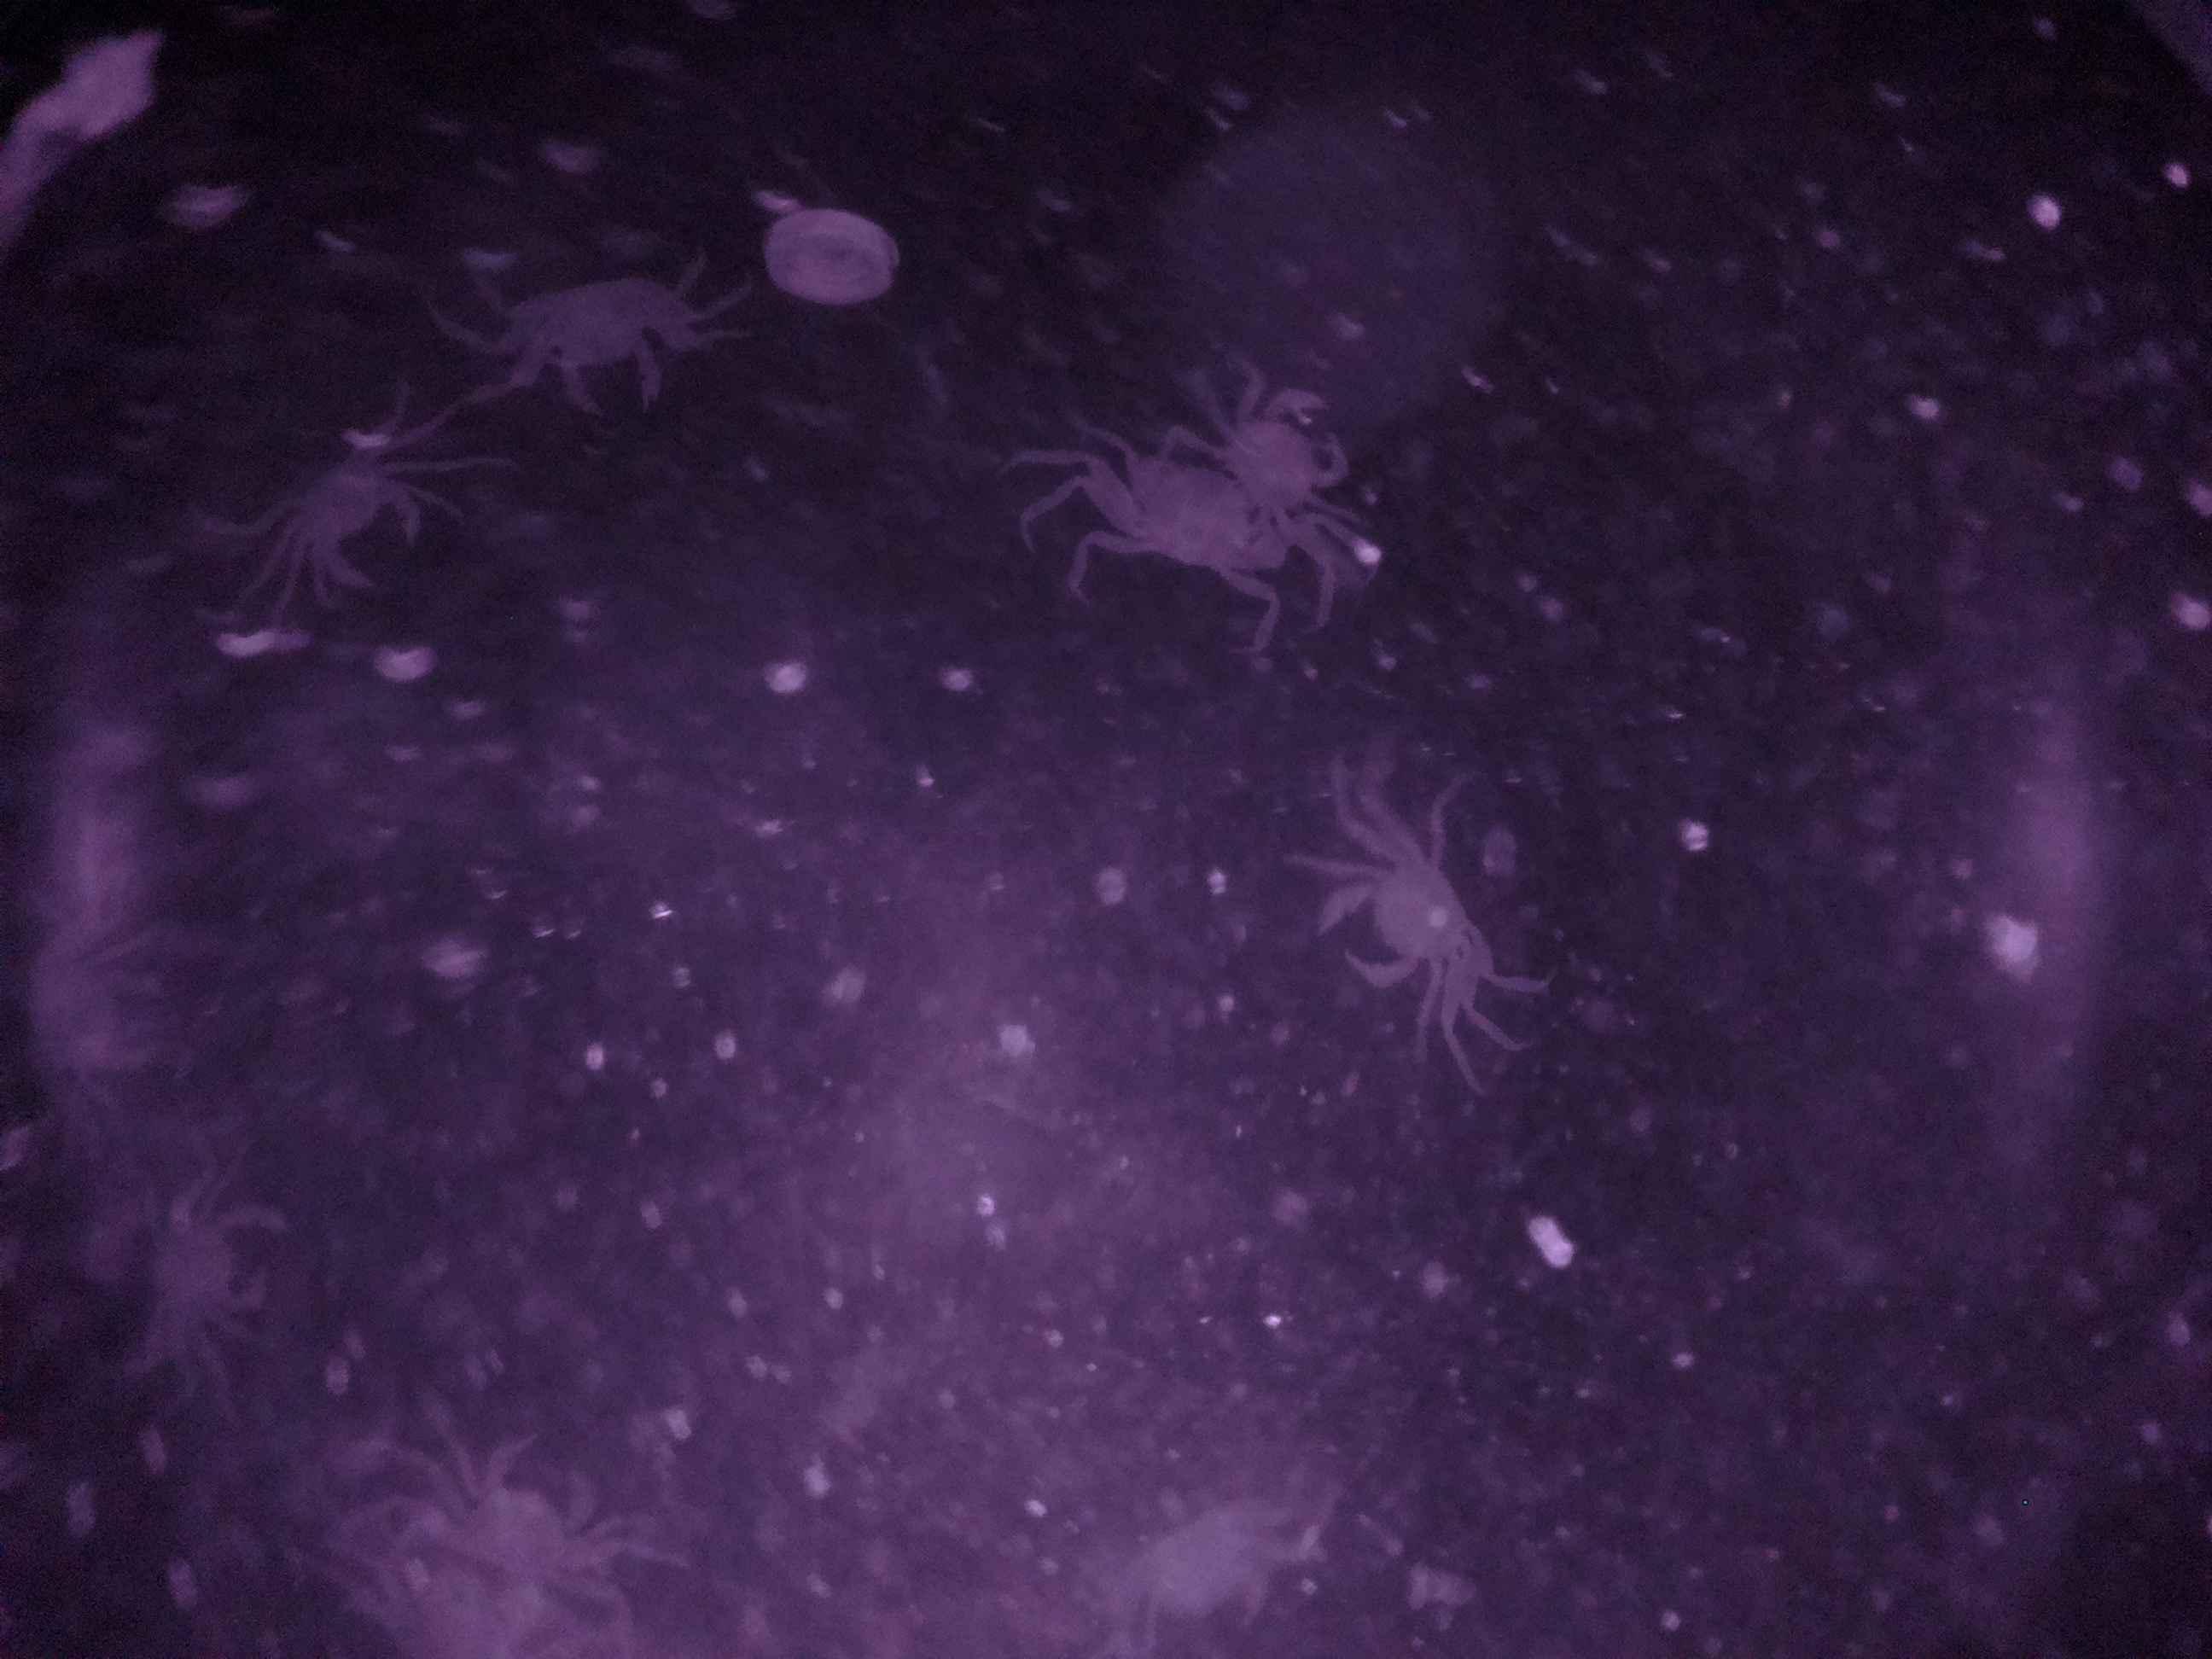Crab: (1301, 755, 1554, 1068), (463, 249, 737, 420), (239, 416, 462, 622)
